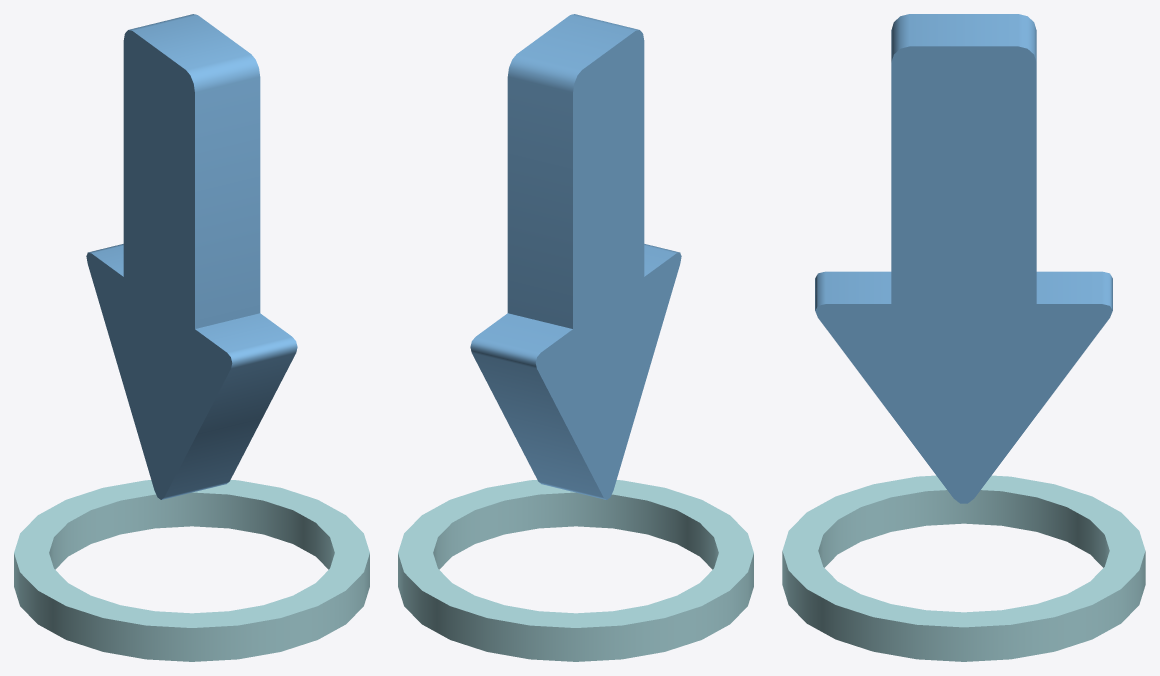
Rendered from arrow.fbx.
3 renders of one model, left to right at view 1: azimuth 30°, elevation 25°; view 2: azimuth 150°, elevation 25°; view 3: azimuth 270°, elevation 25°, orthographic.
Visible parts, largest first — view 1: Arrow, Cylinder; view 2: Arrow, Cylinder; view 3: Arrow, Cylinder.
Boxes of the visible parts, <box> form: Arrow: <box>86,14,297,499</box>; Cylinder: <box>14,480,369,661</box>; Arrow: <box>470,14,681,499</box>; Cylinder: <box>398,480,753,661</box>; Arrow: <box>815,14,1112,503</box>; Cylinder: <box>782,475,1145,661</box>.
Bounding box in the file's own units: 20 × 33.74 × 20.
